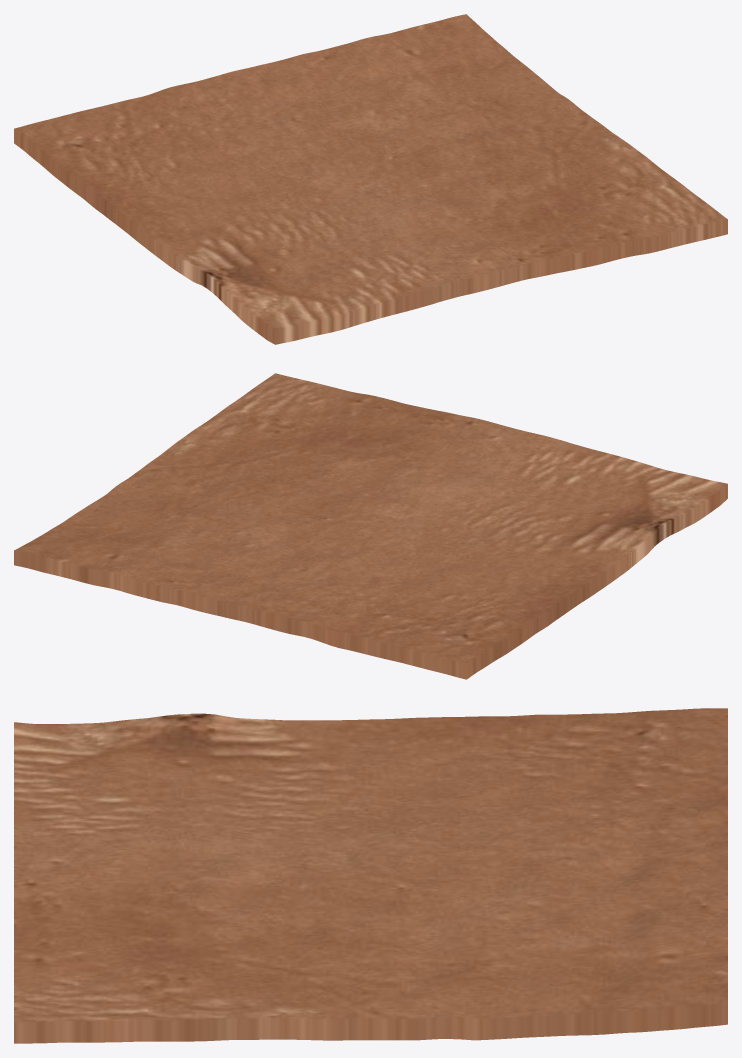
3 renders of one model, top to bottom at view 1: azimuth 30°, elevation 25°; view 2: azimuth 150°, elevation 25°; view 3: azimuth 270°, elevation 25°, orthographic. The views are drawn at different scales.
Visible parts, largest first — view 1: L7_73_44; view 2: L7_73_44; view 3: L7_73_44.
Boxes of the visible parts, x1=… form: L7_73_44: x1=14, y1=14, x2=727, y2=344; L7_73_44: x1=14, y1=373, x2=727, y2=679; L7_73_44: x1=14, y1=708, x2=727, y2=1043.
Bounding box in the file's own units: 113 × 7.36 × 113.
Materials: 1 (1 with a texture image).
